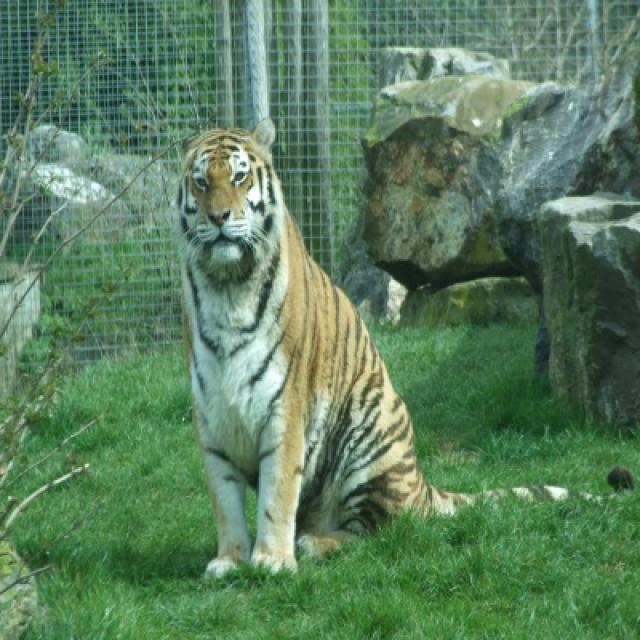Tiger: (176, 112, 610, 582)
